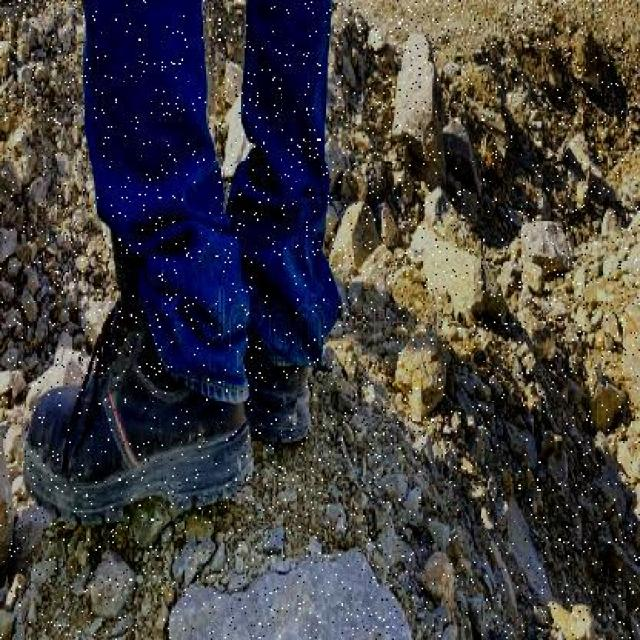shoes: (22, 338, 249, 510)
